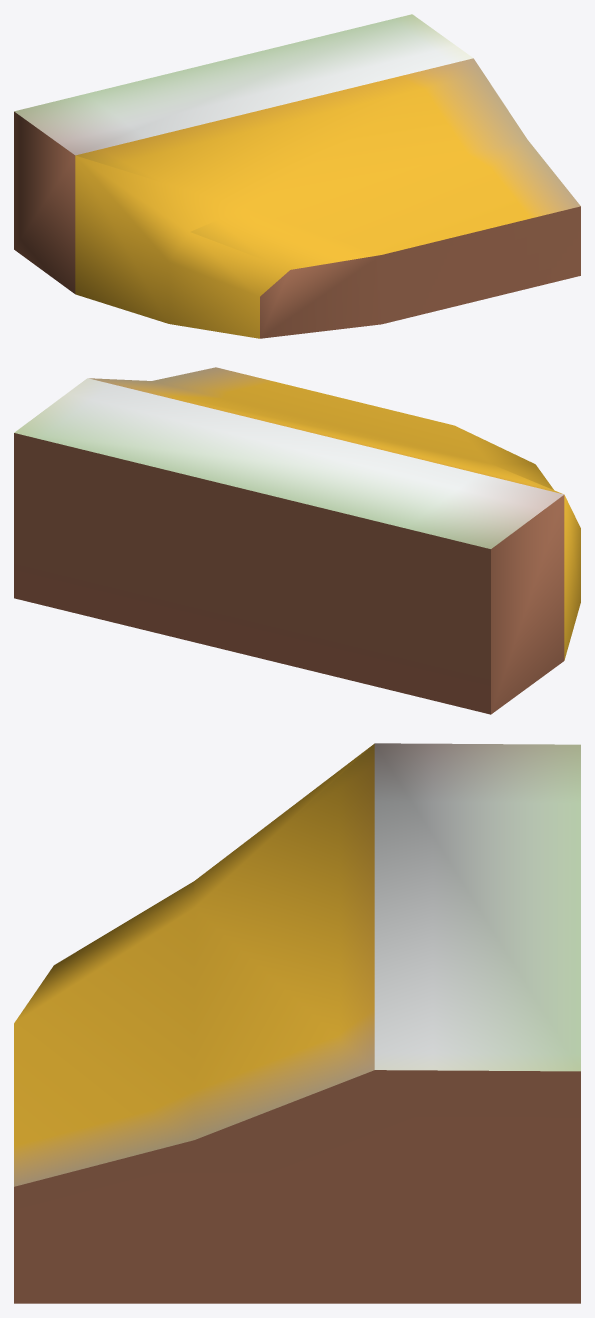
The model's file is Shore.SliceConvex.D.Hor.Snow.glb.
3 renders of one model, top to bottom at view 1: azimuth 30°, elevation 25°; view 2: azimuth 150°, elevation 25°; view 3: azimuth 270°, elevation 25°, orthographic. The views are drawn at different scales.
Parts seen in each view (by area): view 1: Shore.SliceConvex.D.Hor.Snow; view 2: Shore.SliceConvex.D.Hor.Snow; view 3: Shore.SliceConvex.D.Hor.Snow.
Boxes of the visible parts, x1,y1,x2,y2 form: Shore.SliceConvex.D.Hor.Snow: (14, 14, 580, 338); Shore.SliceConvex.D.Hor.Snow: (14, 367, 580, 714); Shore.SliceConvex.D.Hor.Snow: (14, 743, 580, 1303).
Size of the model in its own units: 3 by 1 by 2.2.
1 material, 1 textured.
